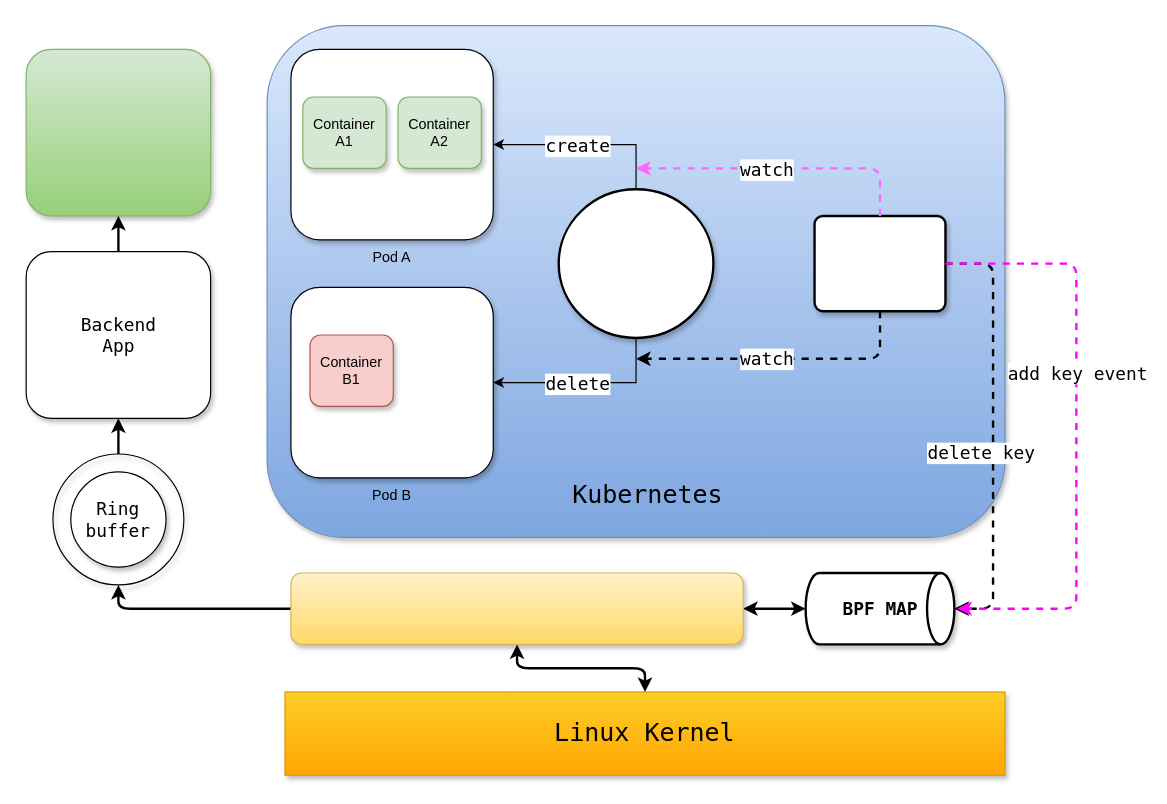
Image size: 1167x804. Some labels were removed from this diagram. The centre of each missing label's shape, as x and y in pixels:
ApiServer: the point at 636,265
eBPF PROG: the point at 517,610
Frontend Vue: the point at 119,133
Operator: the point at 880,264
